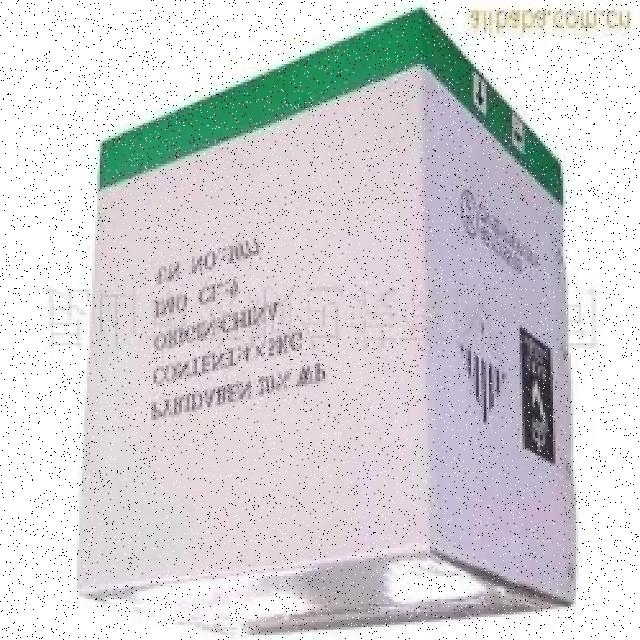box: (61, 46, 594, 640)
